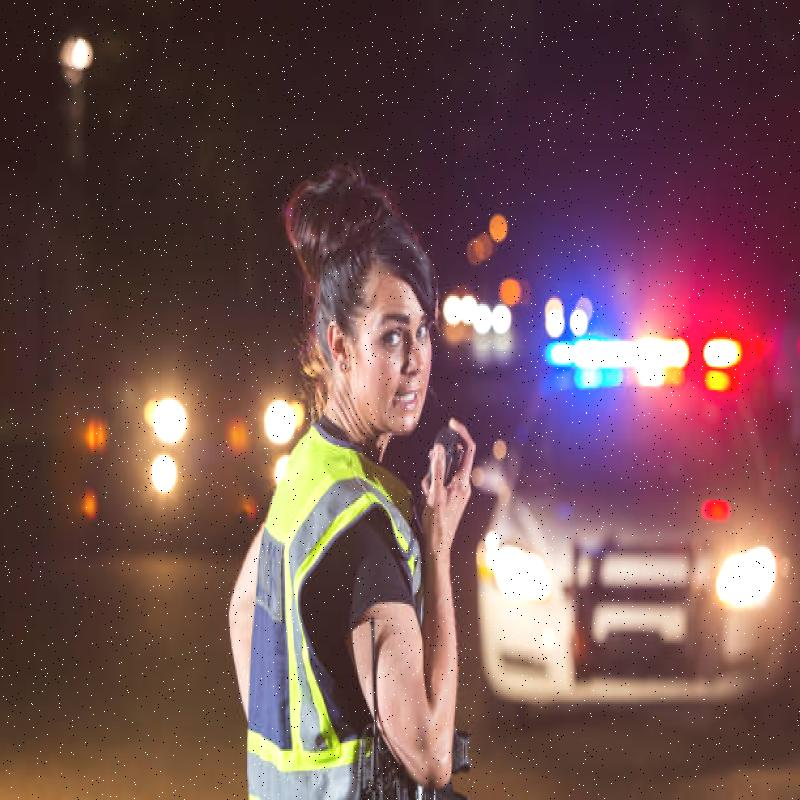AmbulanceSiren: (523, 326, 762, 386)
